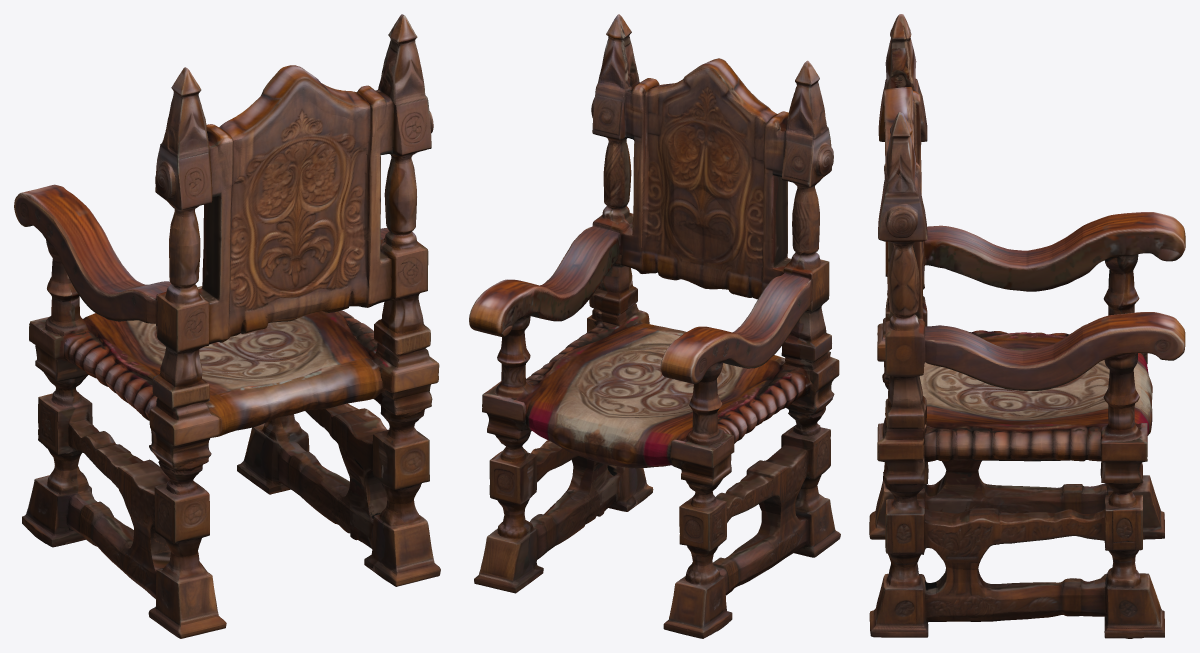
File: Regal_Chair_0613144636_texture.fbx
The picture shows the model from 3 angles, left to right: view 1: azimuth 30°, elevation 25°; view 2: azimuth 150°, elevation 25°; view 3: azimuth 270°, elevation 25°; orthographic projection. The views are drawn at different scales.
Visible parts, largest first — view 1: temp; view 2: temp; view 3: temp.
Part boxes in pixels (x1,y1,x2,y2): temp: (14, 14, 440, 638); temp: (469, 14, 840, 638); temp: (869, 14, 1185, 638).
Size of the model in its own units: 101 by 200 by 111.
1 material, 1 textured.
